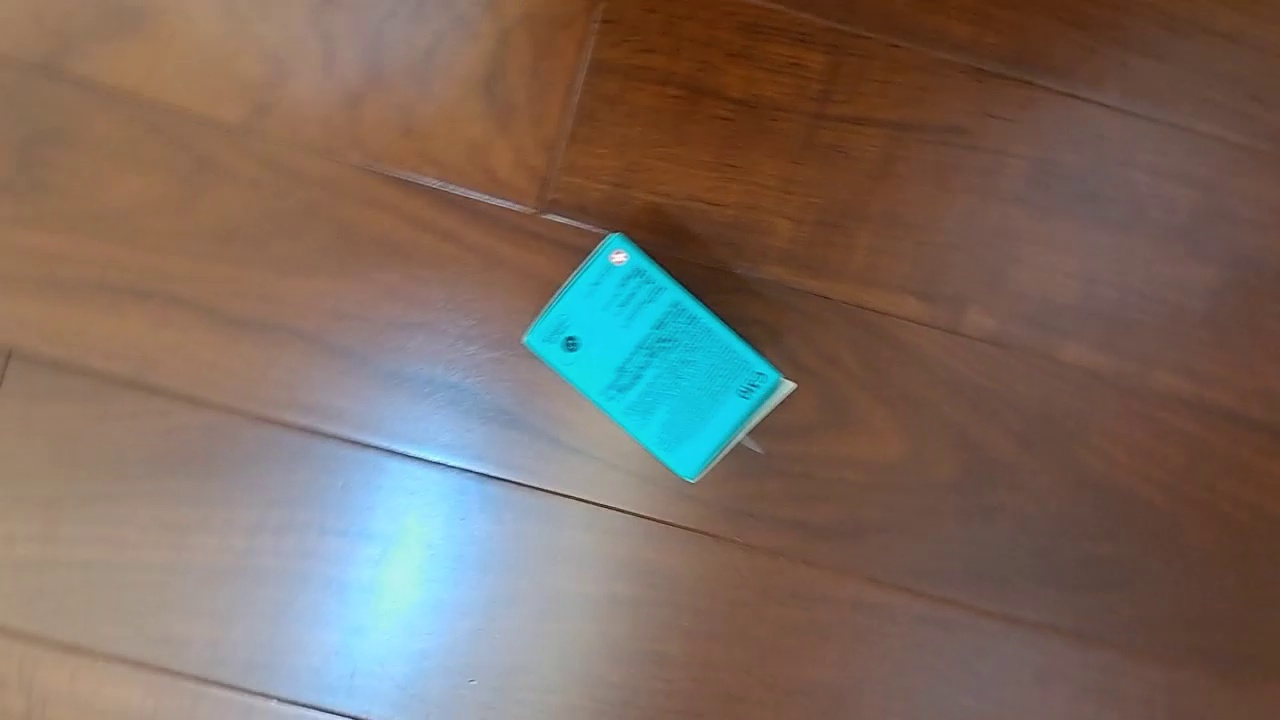webcam: (518, 230, 799, 486)
